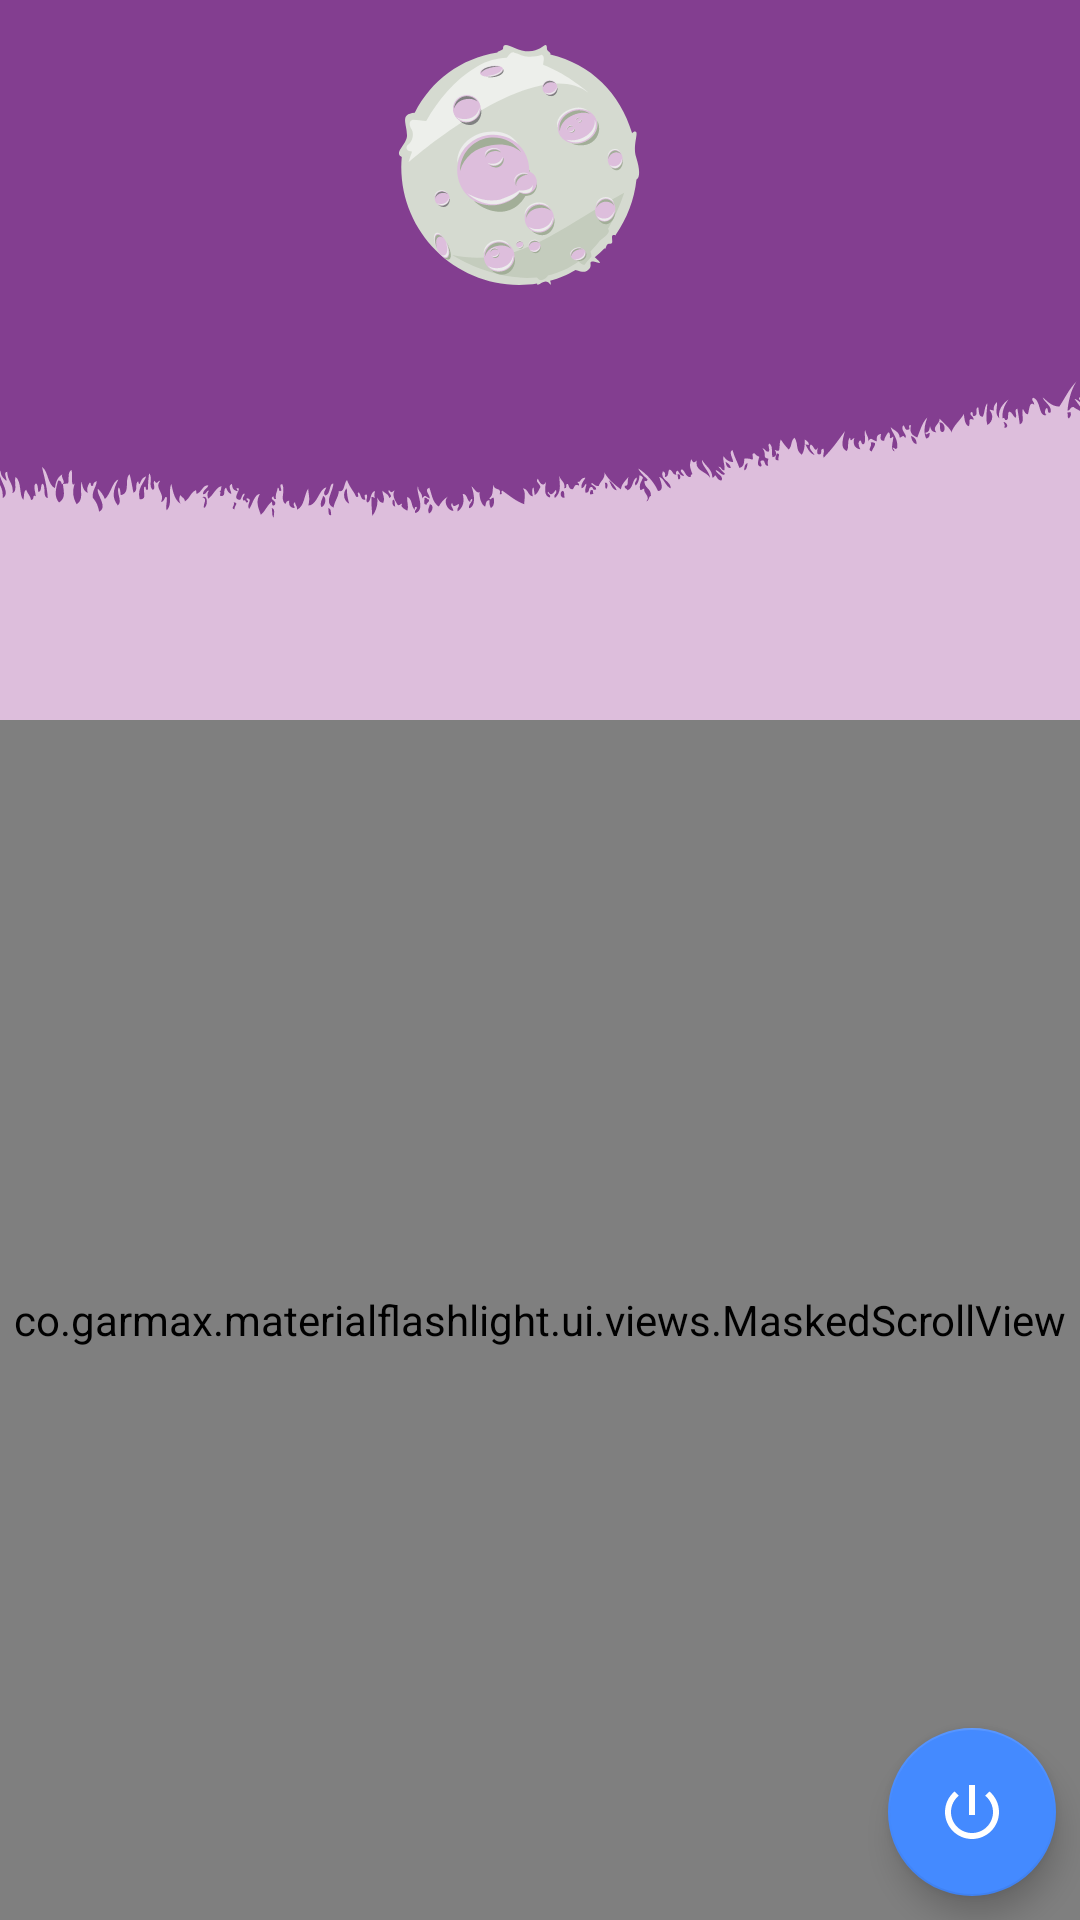

Screen size 1080*1920. Icon name, then its center in pixels as (x,y):
power off: (972,1812)
